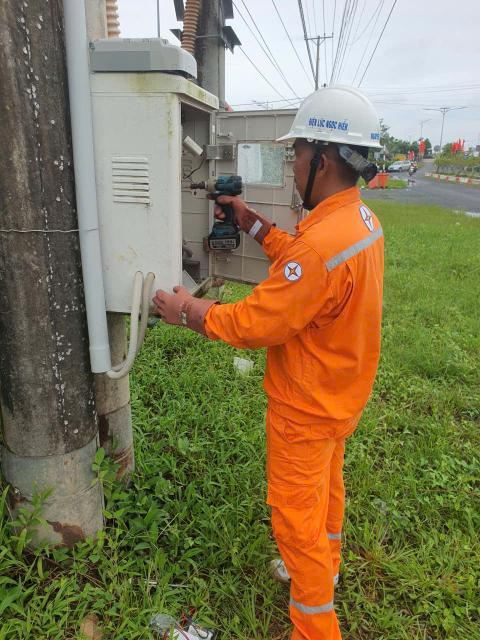gloves: (129, 276, 231, 357), (207, 180, 278, 249)
helmet: (272, 85, 401, 160)
shoes: (256, 554, 357, 600)
